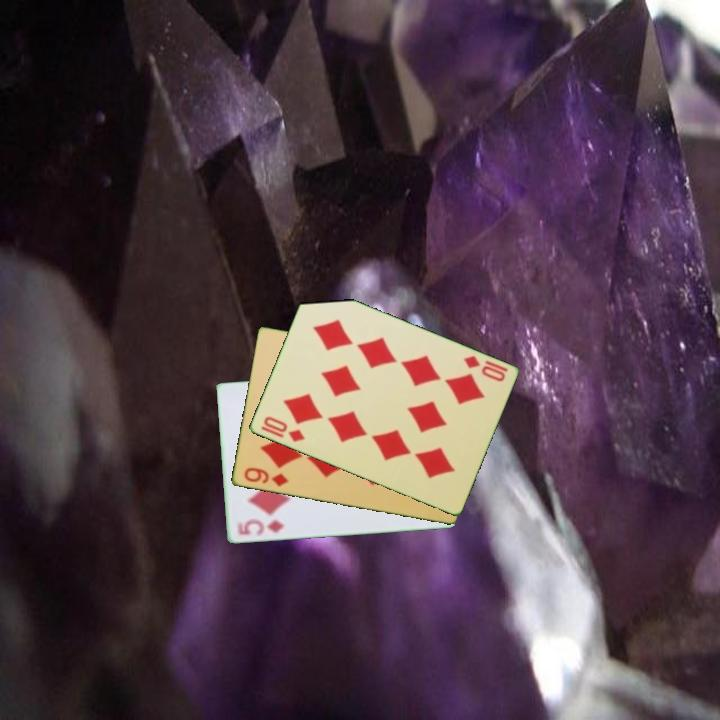10d: (460, 352, 508, 385), (260, 413, 307, 445)
5d: (232, 516, 287, 539)
9d: (240, 464, 291, 490)
